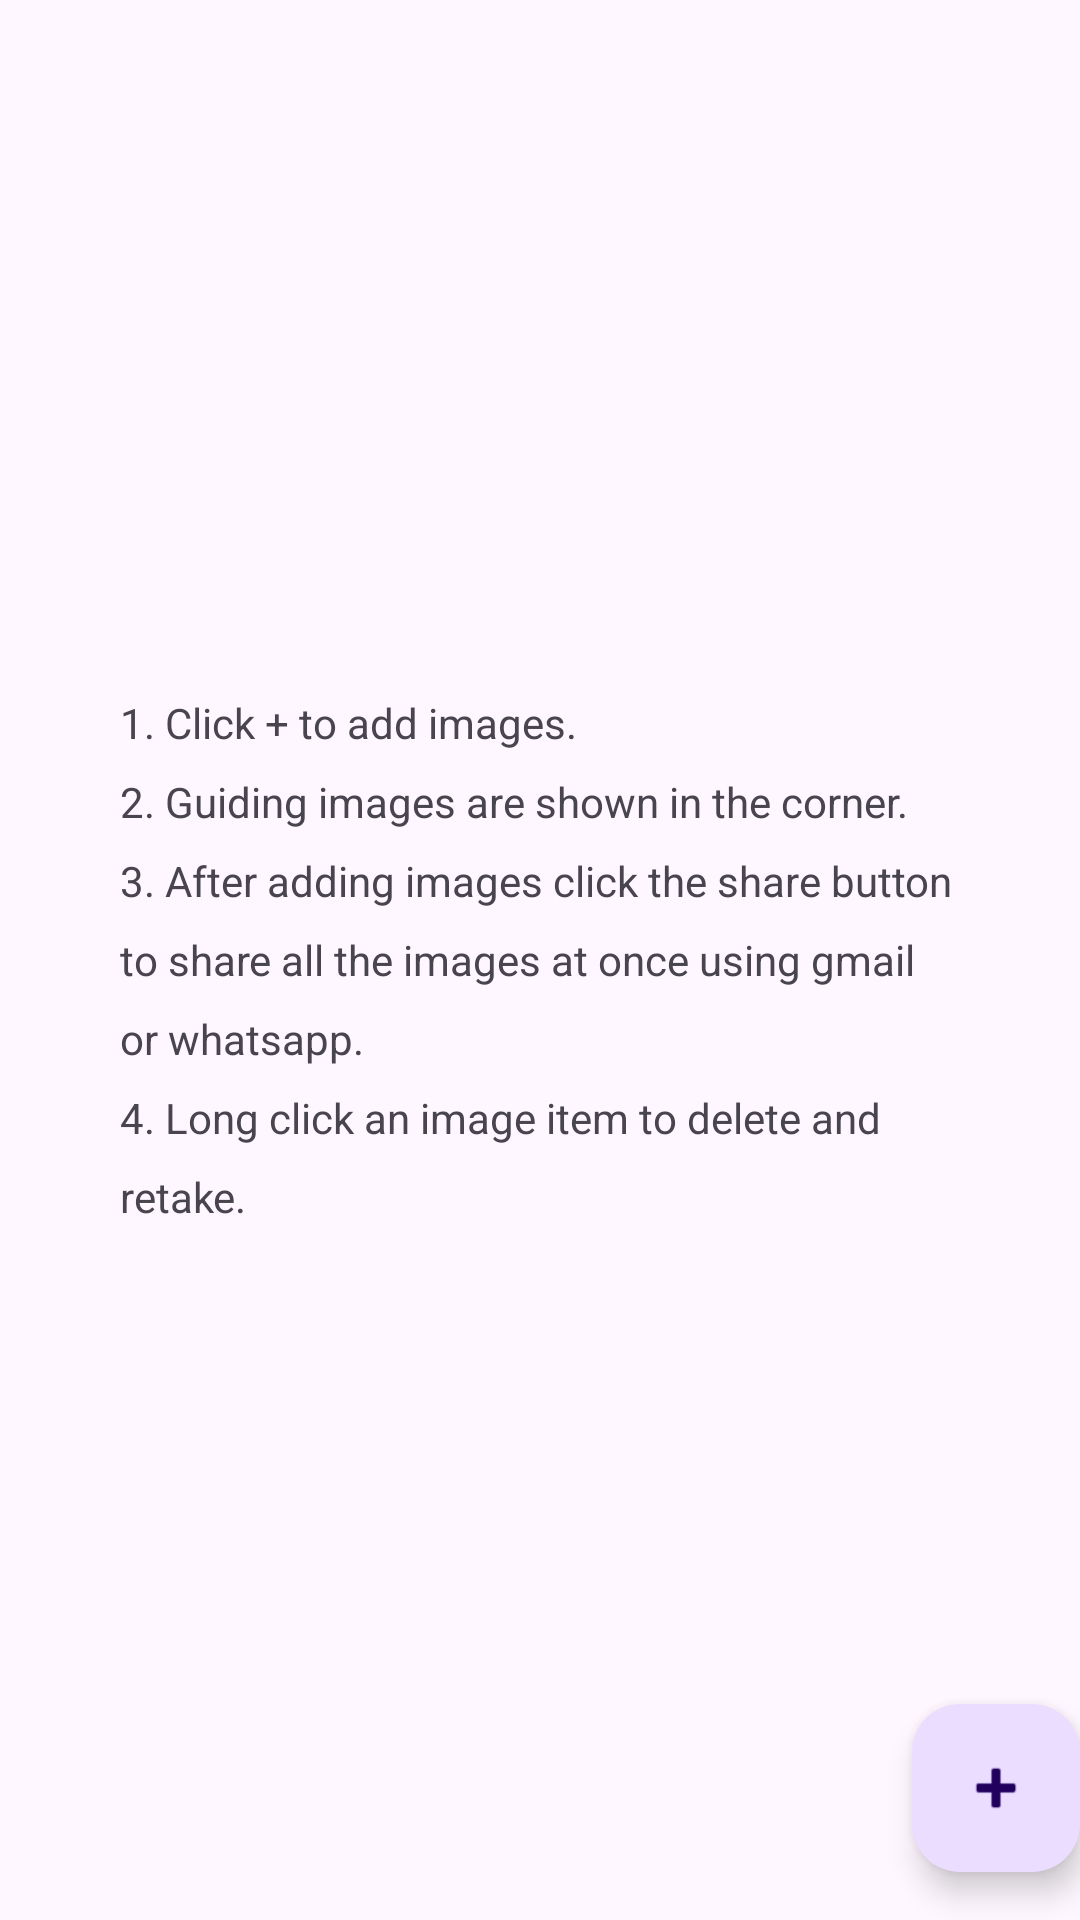

Icons on this 1080 × 1920 Android screen, each with its box as (x1, y1, x2, y2):
Add new images: (912, 1704, 1080, 1872)
